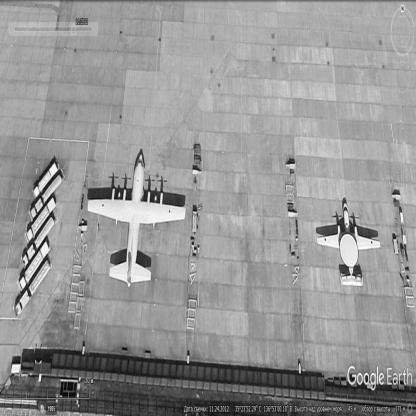C130: (89, 156, 187, 289)
E2: (318, 204, 382, 288)
